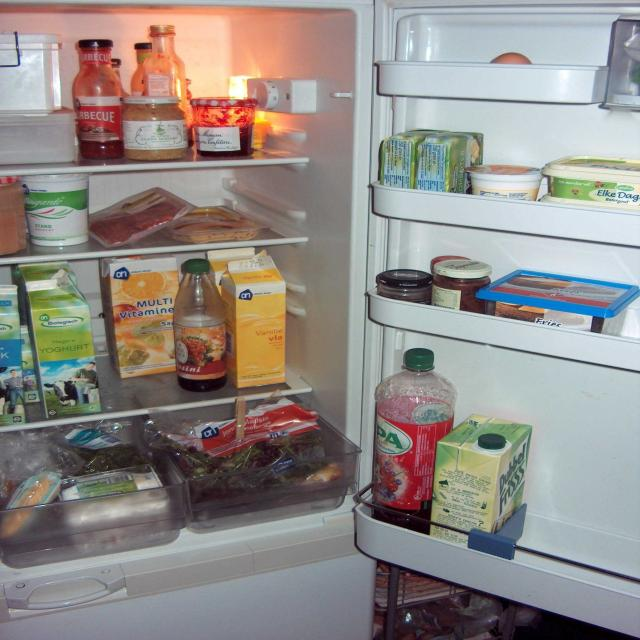refrigerator: (4, 2, 640, 640)
